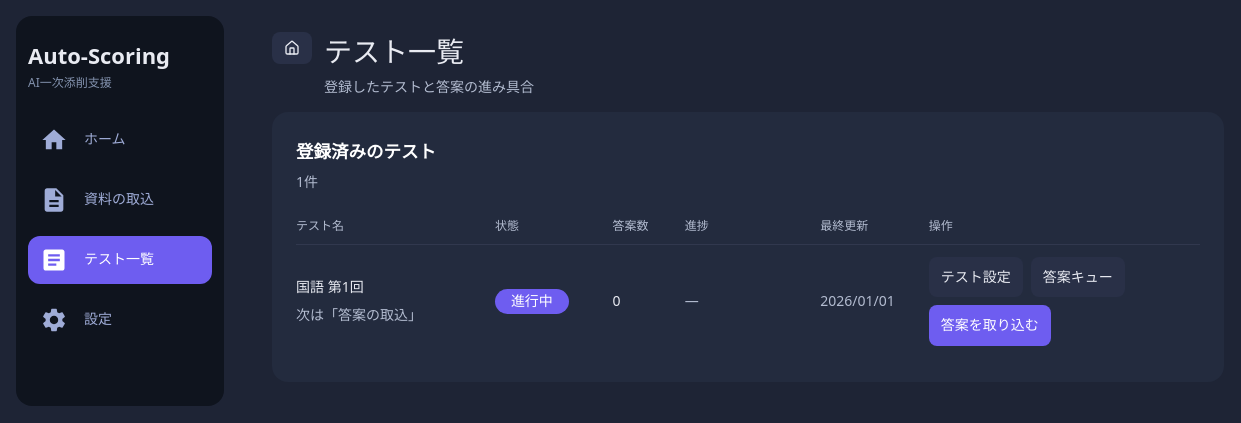
Test: TestListPage (Issue #379) › opens the answer queue from a row
The image size is (1241, 423).
Expected: the row with test id "test-list-row-t1" is shown, [296,244,1200,358]
Click the button with test id "test-list-open-queue-t1" at (1078, 277), box [1031,257,1125,297]
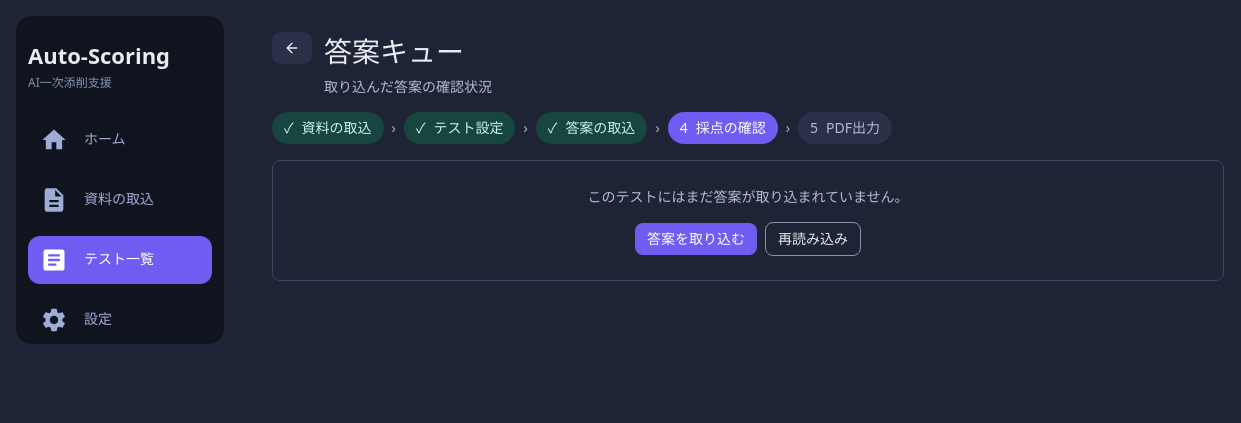
Expected: the heading with test id "page-title" reads "答案キュー", [324,32,464,70]
